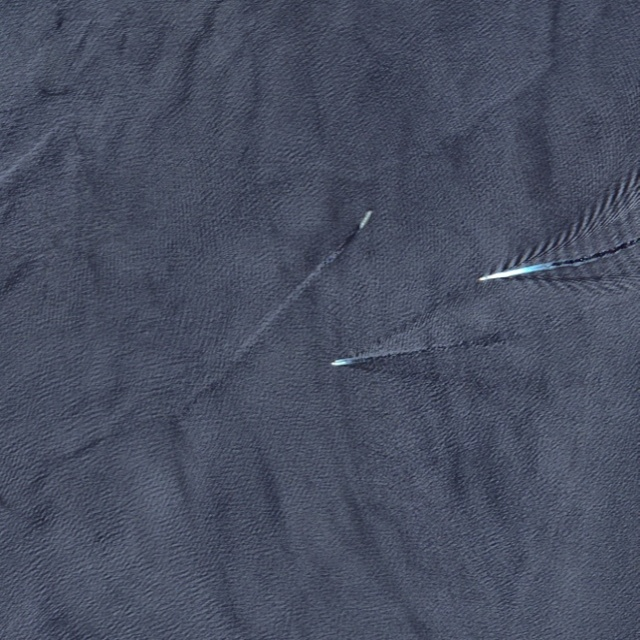wake: (470, 228, 588, 311)
